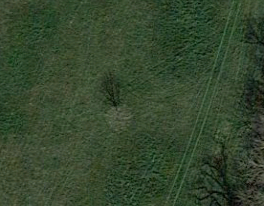tree: (99, 100, 138, 136)
